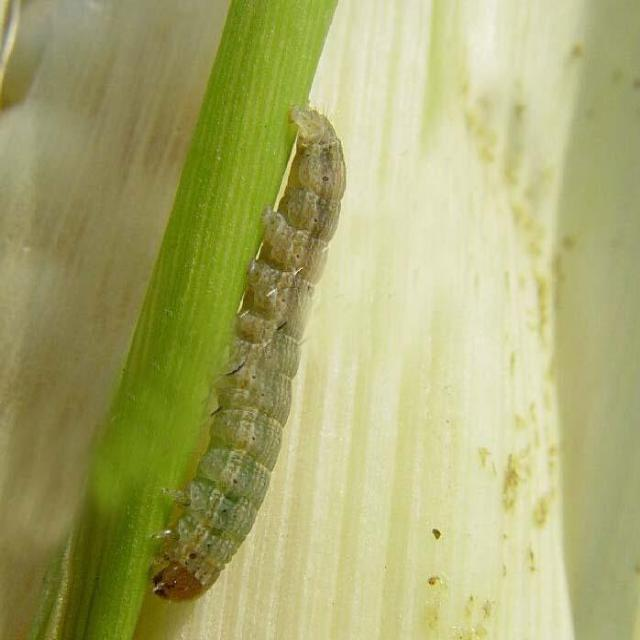BeetArmyWorm-Larva-: (146, 100, 352, 608)
